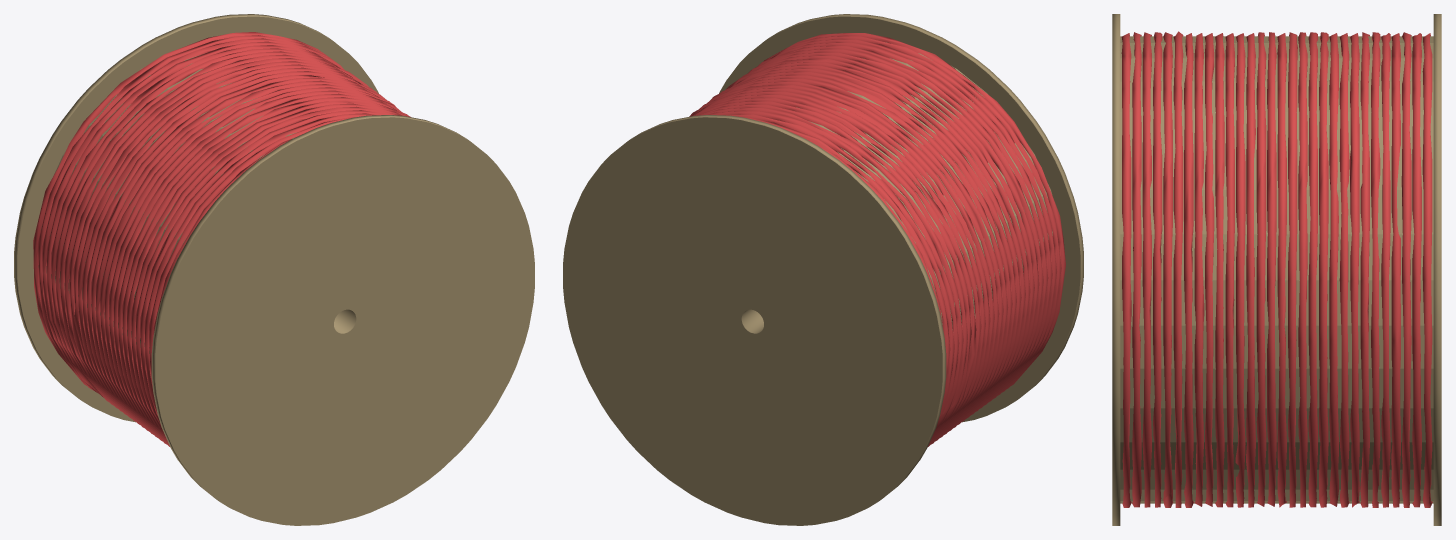
Rendered from cable-reel-red.glb.
3 views of the same model, side by side, from view 1: azimuth 30°, elevation 25°; view 2: azimuth 150°, elevation 25°; view 3: azimuth 270°, elevation 25° (orthographic). The views are drawn at different scales.
Parts seen in each view (by area): view 1: CableRollMedium; view 2: CableRollMedium; view 3: CableRollMedium.
Part boxes in pixels (x1=…): CableRollMedium: x1=14, y1=14, x2=534, y2=525; CableRollMedium: x1=563, y1=14, x2=1083, y2=525; CableRollMedium: x1=1112, y1=14, x2=1441, y2=525.
Bounding box in the file's own units: 0.8 × 0.8 × 0.5153.
